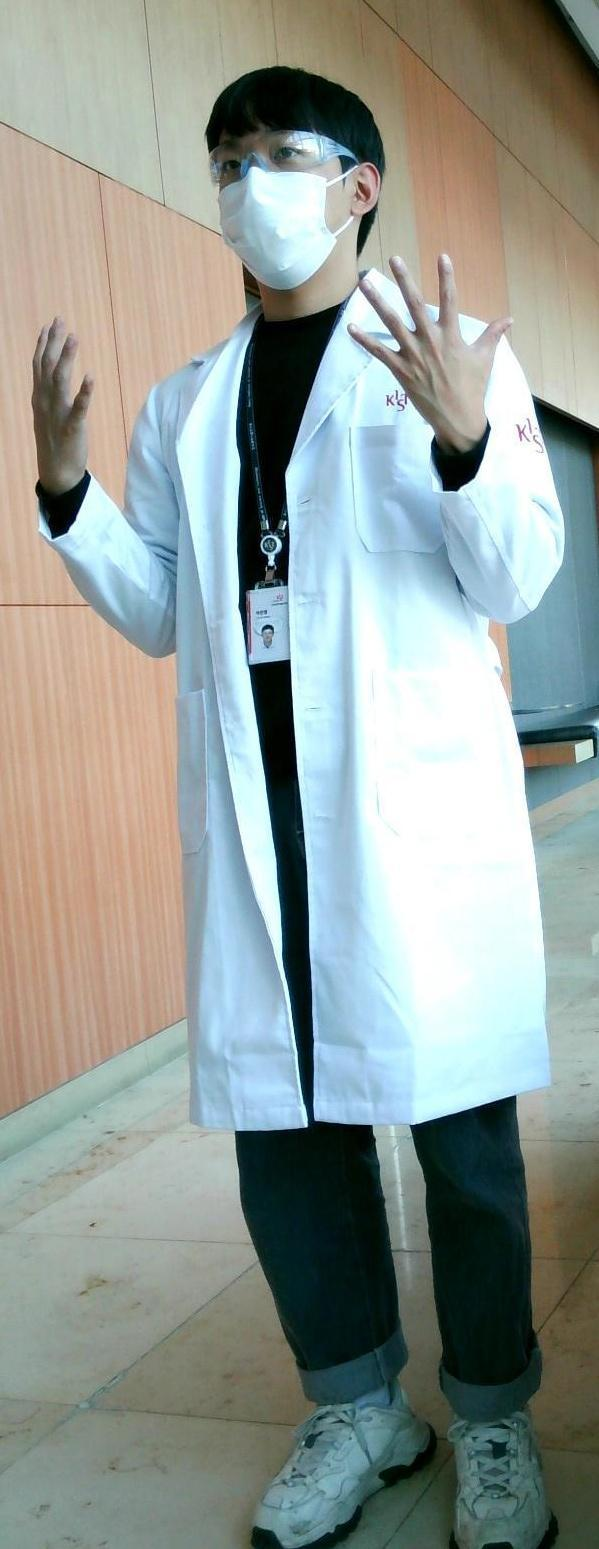lab_coat: (134, 414, 515, 1097)
